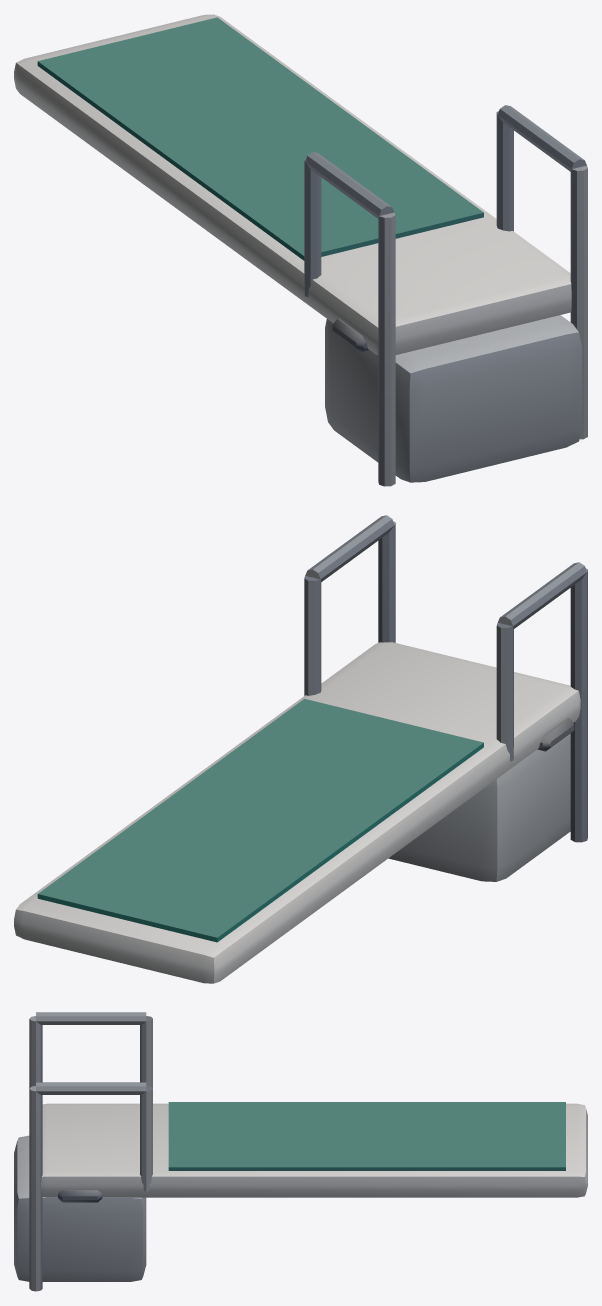
The model's file is DivingBoard.fbx.
3 views of the same model, one above another, from view 1: azimuth 30°, elevation 25°; view 2: azimuth 150°, elevation 25°; view 3: azimuth 270°, elevation 25° (orthographic). The views are drawn at different scales.
Visible parts, largest first — view 1: SM_Prop_DivingBoard; view 2: SM_Prop_DivingBoard; view 3: SM_Prop_DivingBoard.
Boxes of the visible parts, x1,y1,x2,y2 form: SM_Prop_DivingBoard: (14,14,587,486); SM_Prop_DivingBoard: (14,515,587,983); SM_Prop_DivingBoard: (14,1012,587,1291).
Bounding box in the file's own units: 1.7 × 2.06 × 5.2.
